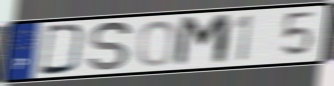1: (233, 13, 254, 63)
5: (279, 10, 316, 59)
D: (37, 23, 87, 76)
M: (172, 12, 235, 69)
O: (135, 18, 179, 68)
S: (87, 20, 134, 73)
